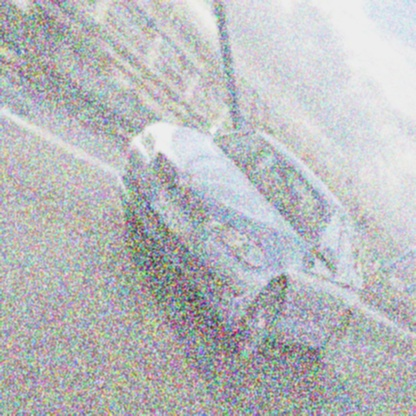Vehicle: (110, 116, 370, 376)
